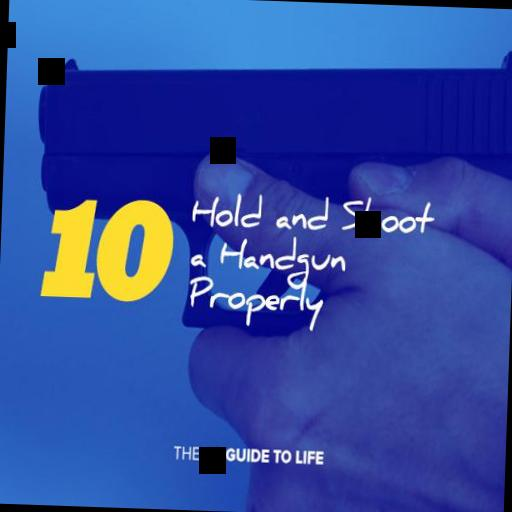Handgun: (23, 38, 512, 413)
